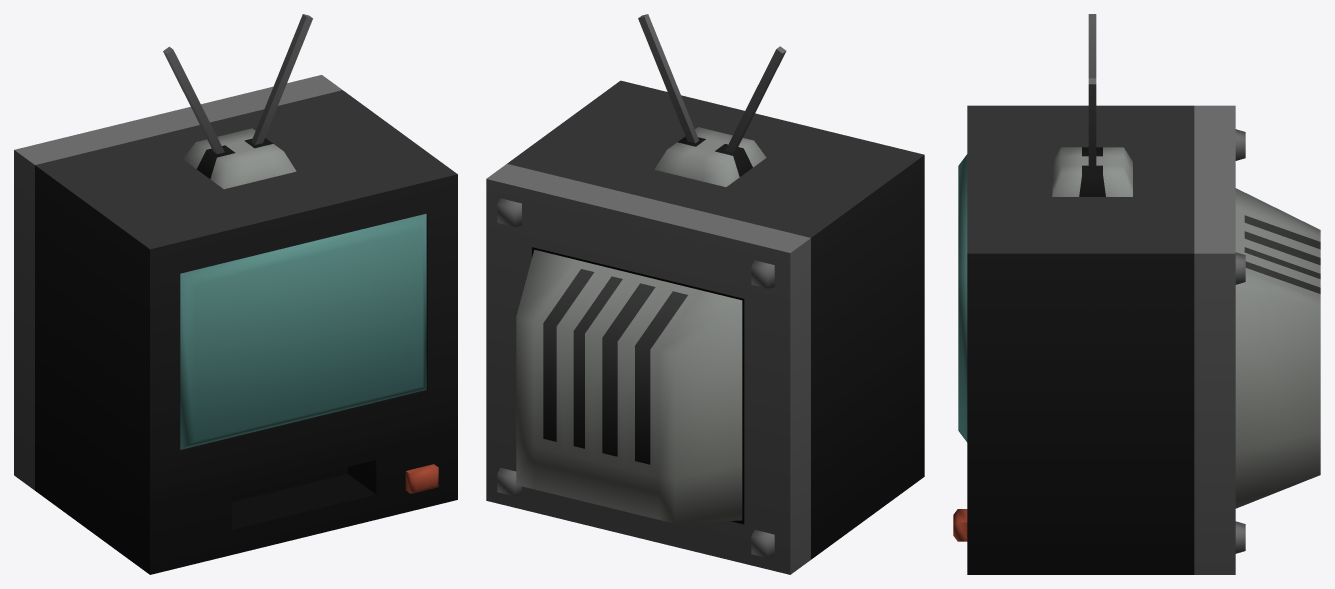
3 renders of one model, left to right at view 1: azimuth 30°, elevation 25°; view 2: azimuth 150°, elevation 25°; view 3: azimuth 270°, elevation 25°, orthographic.
Parts seen in each view (by area): view 1: tv; view 2: tv; view 3: tv.
Boxes of the visible parts, box(x1,y1,x2,y2) form: tv: box(14, 14, 457, 574); tv: box(486, 14, 924, 574); tv: box(953, 14, 1320, 574).
Size of the model in its own units: 0.8581 by 1.23 by 0.8984.
